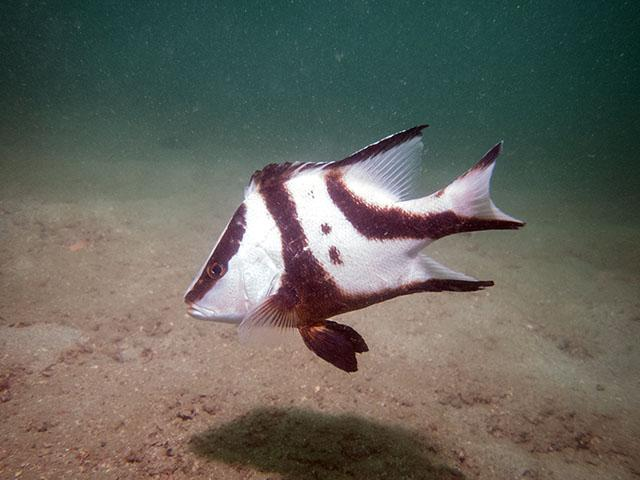Mulut: (163, 280, 220, 348)
Sirip Anal: (380, 240, 512, 316)
Sirip Dada: (226, 270, 310, 370)
Sirip Ekor: (434, 134, 530, 256)
Sirip Perut: (293, 313, 379, 385)
Sirip Punggung: (241, 116, 434, 208)
